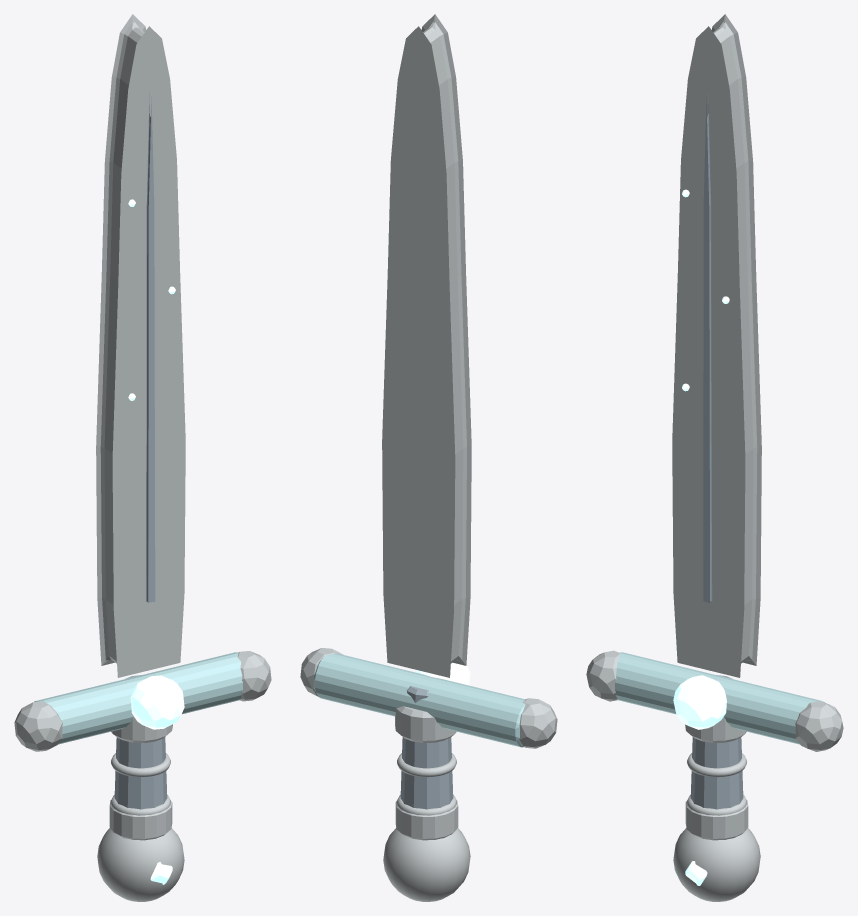
The model's file is assassin-sword-05-ghostlight.glb.
3 views of the same model, side by side, from view 1: azimuth 30°, elevation 25°; view 2: azimuth 150°, elevation 25°; view 3: azimuth 330°, elevation 25° (orthographic).
Parts seen in each view (by area): view 1: assassin-sword-05-ghostlight_ForgedBlade, assassin-sword-05-ghostlight_Crossguard, assassin-sword-05-ghostlight_Pommel, assassin-sword-05-ghostlight_ColoredFuller, assassin-sword-05-ghostlight_LeatherGrip, assassin-sword-05-ghostlight_GuardGem, assassin-sword-05-ghostlight_GuardEnd_-1, assassin-sword-05-ghostlight_LowerFerrule, assassin-sword-05-ghostlight_GuardEnd_1, assassin-sword-05-ghostlight_UpperFerrule, assassin-sword-05-ghostlight_GripBinding_2; view 2: assassin-sword-05-ghostlight_ForgedBlade, assassin-sword-05-ghostlight_Crossguard, assassin-sword-05-ghostlight_Pommel, assassin-sword-05-ghostlight_LeatherGrip, assassin-sword-05-ghostlight_LowerFerrule, assassin-sword-05-ghostlight_GuardEnd_-1, assassin-sword-05-ghostlight_UpperFerrule, assassin-sword-05-ghostlight_GuardEnd_1, assassin-sword-05-ghostlight_GripBinding_2; view 3: assassin-sword-05-ghostlight_ForgedBlade, assassin-sword-05-ghostlight_Crossguard, assassin-sword-05-ghostlight_Pommel, assassin-sword-05-ghostlight_ColoredFuller, assassin-sword-05-ghostlight_LeatherGrip, assassin-sword-05-ghostlight_GuardGem, assassin-sword-05-ghostlight_GuardEnd_1, assassin-sword-05-ghostlight_LowerFerrule, assassin-sword-05-ghostlight_GuardEnd_-1, assassin-sword-05-ghostlight_UpperFerrule, assassin-sword-05-ghostlight_GripBinding_2.
Boxes of the visible parts, bbox=[...] form: assassin-sword-05-ghostlight_ForgedBlade: bbox=[96, 14, 185, 677]; assassin-sword-05-ghostlight_Crossguard: bbox=[34, 652, 242, 744]; assassin-sword-05-ghostlight_Pommel: bbox=[97, 828, 184, 901]; assassin-sword-05-ghostlight_ColoredFuller: bbox=[146, 92, 155, 602]; assassin-sword-05-ghostlight_LeatherGrip: bbox=[114, 675, 167, 809]; assassin-sword-05-ghostlight_GuardGem: bbox=[130, 675, 184, 729]; assassin-sword-05-ghostlight_GuardEnd_-1: bbox=[14, 701, 62, 751]; assassin-sword-05-ghostlight_LowerFerrule: bbox=[109, 800, 172, 840]; assassin-sword-05-ghostlight_GuardEnd_1: bbox=[237, 651, 271, 701]; assassin-sword-05-ghostlight_UpperFerrule: bbox=[111, 717, 172, 742]; assassin-sword-05-ghostlight_GripBinding_2: bbox=[111, 753, 170, 777]; assassin-sword-05-ghostlight_ForgedBlade: bbox=[382, 14, 471, 677]; assassin-sword-05-ghostlight_Crossguard: bbox=[313, 653, 525, 747]; assassin-sword-05-ghostlight_Pommel: bbox=[383, 828, 470, 901]; assassin-sword-05-ghostlight_LeatherGrip: bbox=[400, 686, 453, 809]; assassin-sword-05-ghostlight_LowerFerrule: bbox=[395, 800, 458, 840]; assassin-sword-05-ghostlight_GuardEnd_-1: bbox=[519, 698, 557, 748]; assassin-sword-05-ghostlight_UpperFerrule: bbox=[395, 706, 456, 742]; assassin-sword-05-ghostlight_GuardEnd_1: bbox=[300, 648, 343, 696]; assassin-sword-05-ghostlight_GripBinding_2: bbox=[397, 753, 456, 777]; assassin-sword-05-ghostlight_ForgedBlade: bbox=[672, 14, 761, 677]; assassin-sword-05-ghostlight_Crossguard: bbox=[615, 652, 825, 744]; assassin-sword-05-ghostlight_Pommel: bbox=[673, 828, 760, 901]; assassin-sword-05-ghostlight_ColoredFuller: bbox=[703, 92, 712, 603]; assassin-sword-05-ghostlight_LeatherGrip: bbox=[690, 675, 743, 809]; assassin-sword-05-ghostlight_GuardGem: bbox=[673, 675, 726, 729]; assassin-sword-05-ghostlight_GuardEnd_1: bbox=[795, 701, 843, 751]; assassin-sword-05-ghostlight_LowerFerrule: bbox=[685, 800, 748, 840]; assassin-sword-05-ghostlight_GuardEnd_-1: bbox=[586, 650, 621, 701]; assassin-sword-05-ghostlight_UpperFerrule: bbox=[685, 717, 746, 742]; assassin-sword-05-ghostlight_GripBinding_2: bbox=[687, 753, 746, 777].
Bounding box in the file's own units: 0.422 × 1.41 × 0.15.
